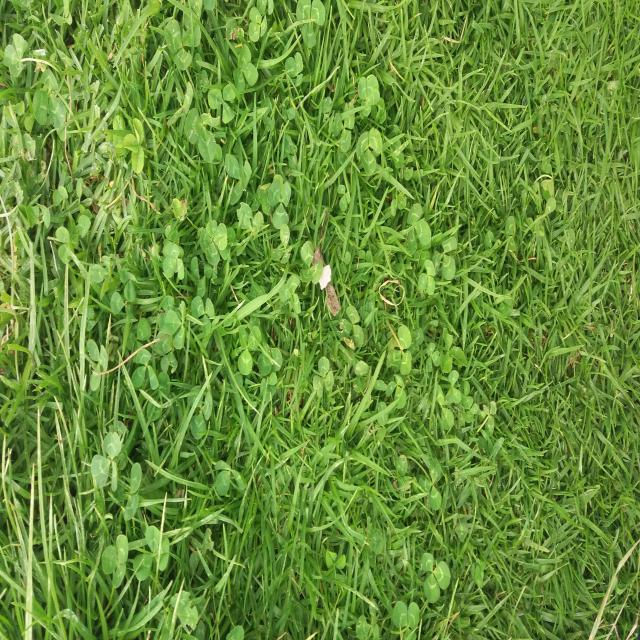Four Leaf Clover: (199, 220, 227, 266), (357, 74, 380, 119)
